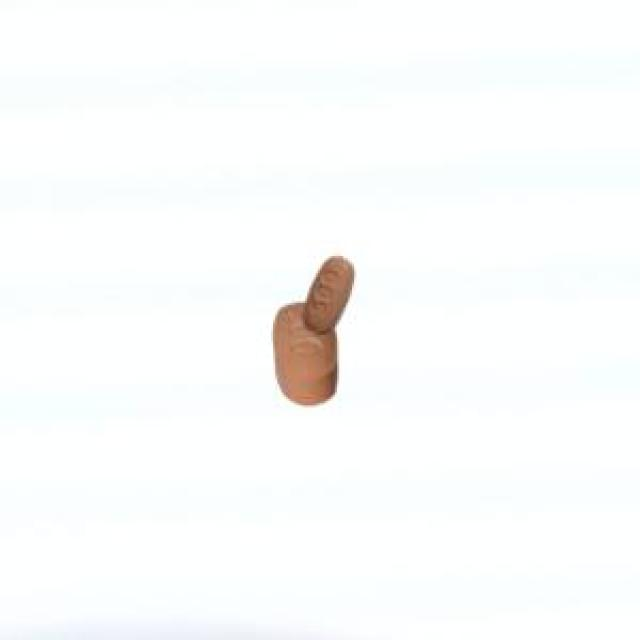Biogesic: (247, 244, 368, 423)
